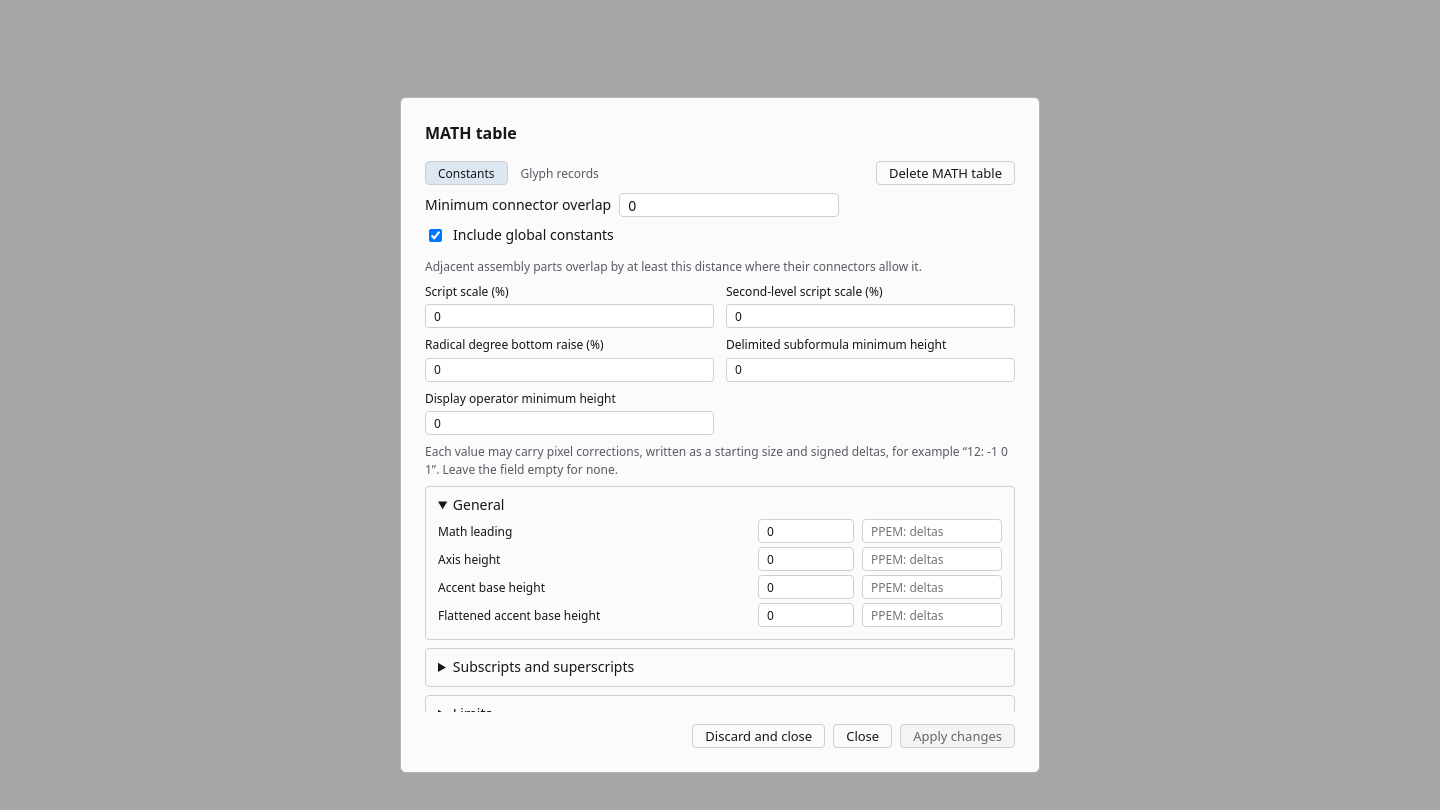
Test case: applies constants and a glyph record together and keeps the selection
The width and height of the screenshot is (1440, 810).
Replace the text in the field named "Axis height" with "777". click: (806, 559)
box: left=758, top=547, right=854, bottom=571
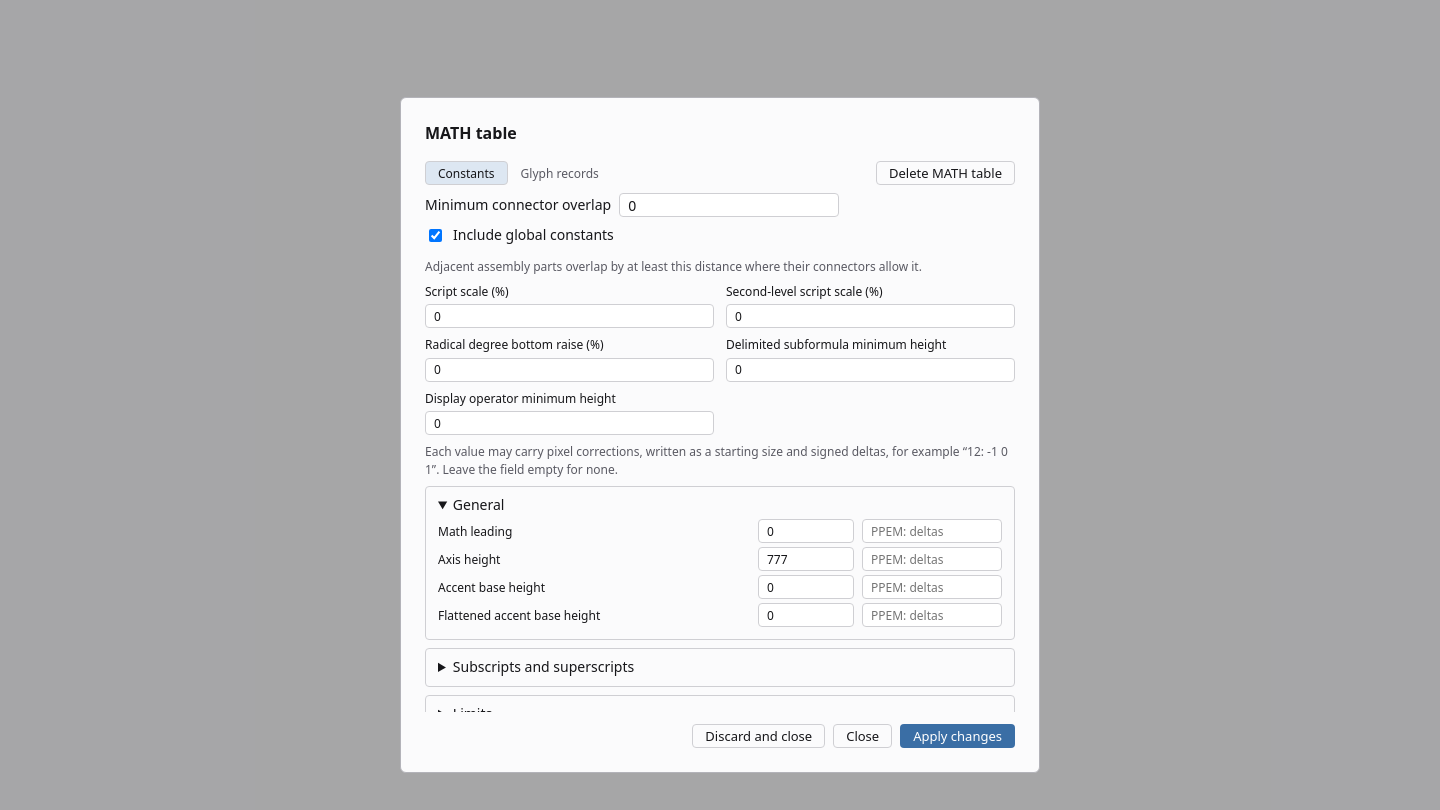
Click the tab "Glyph records". click: (560, 173)
box: left=508, top=161, right=612, bottom=185
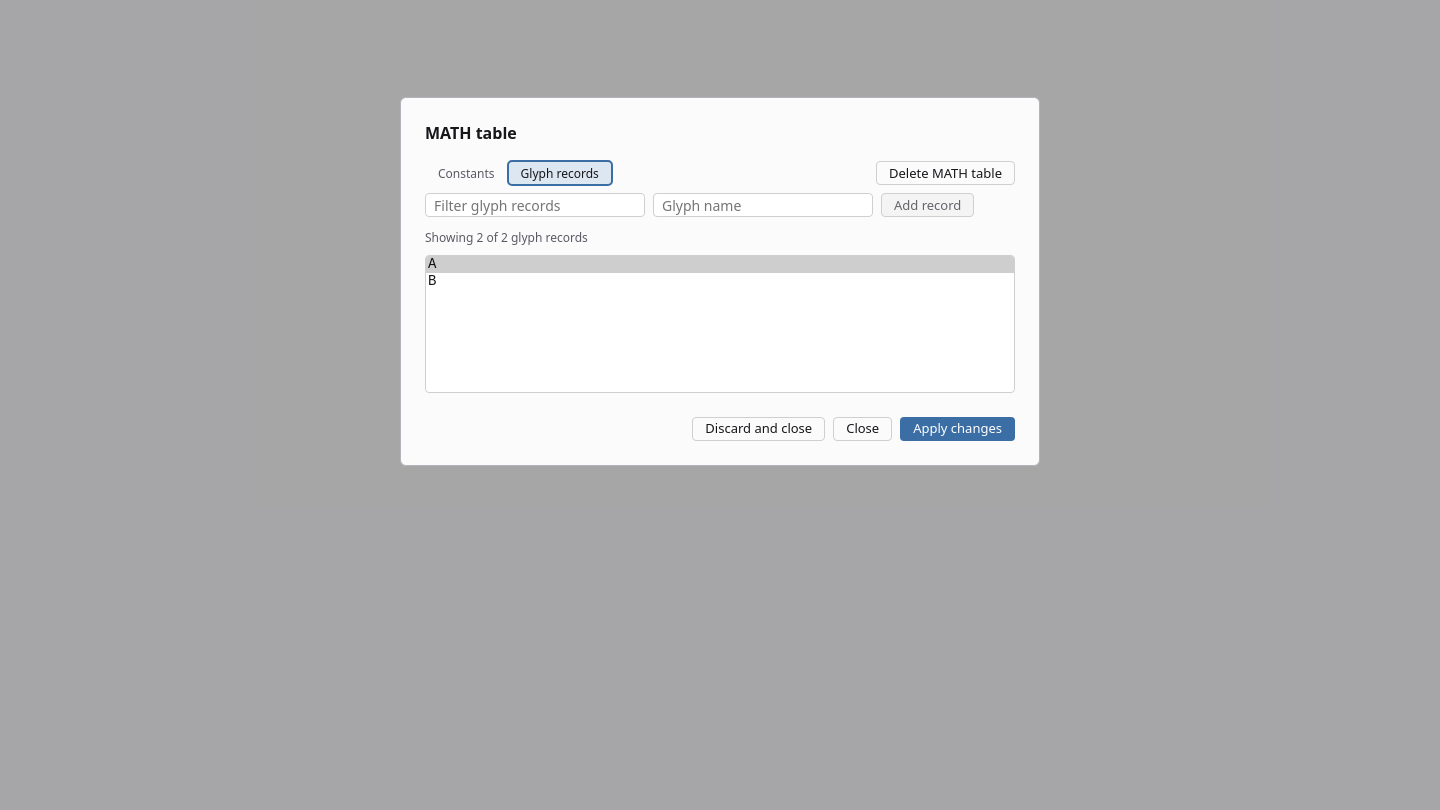
Select "A" in the dropdown. click: (720, 324)
box: left=425, top=255, right=1015, bottom=393
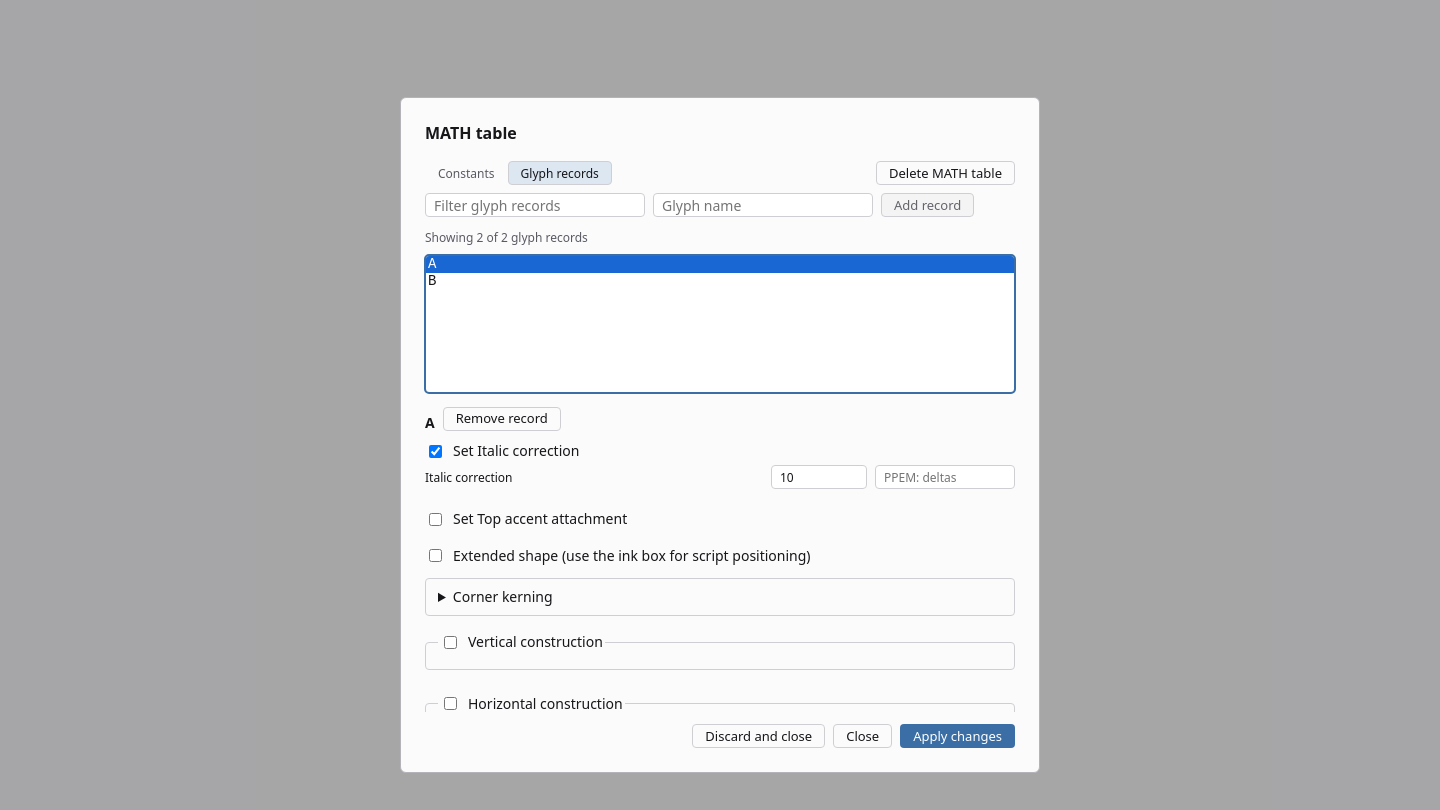
Replace the text in the field named "Italic correction" with "25". click: (819, 477)
box: left=771, top=465, right=867, bottom=489
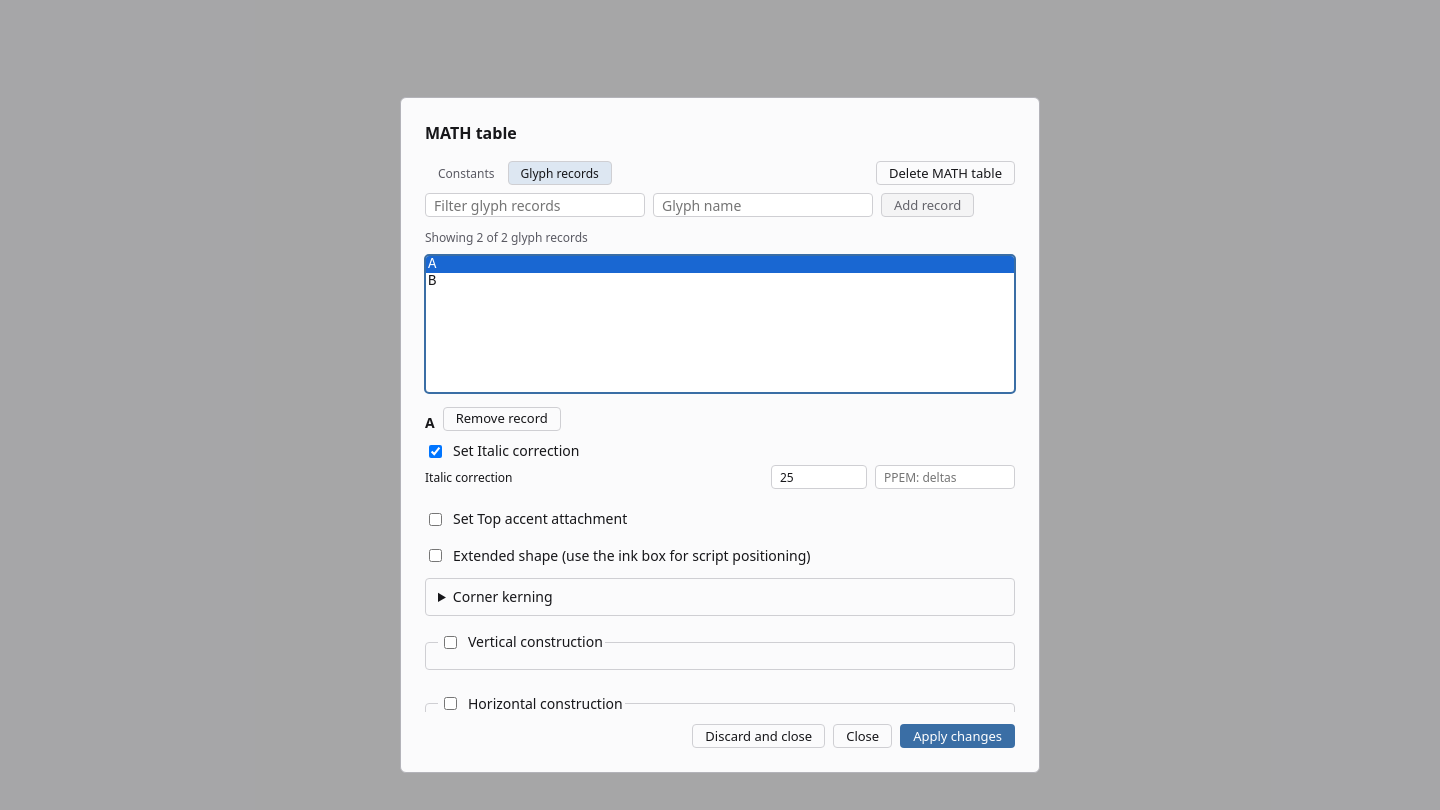
Click the button "Apply changes". click: (958, 736)
box: left=900, top=724, right=1015, bottom=748
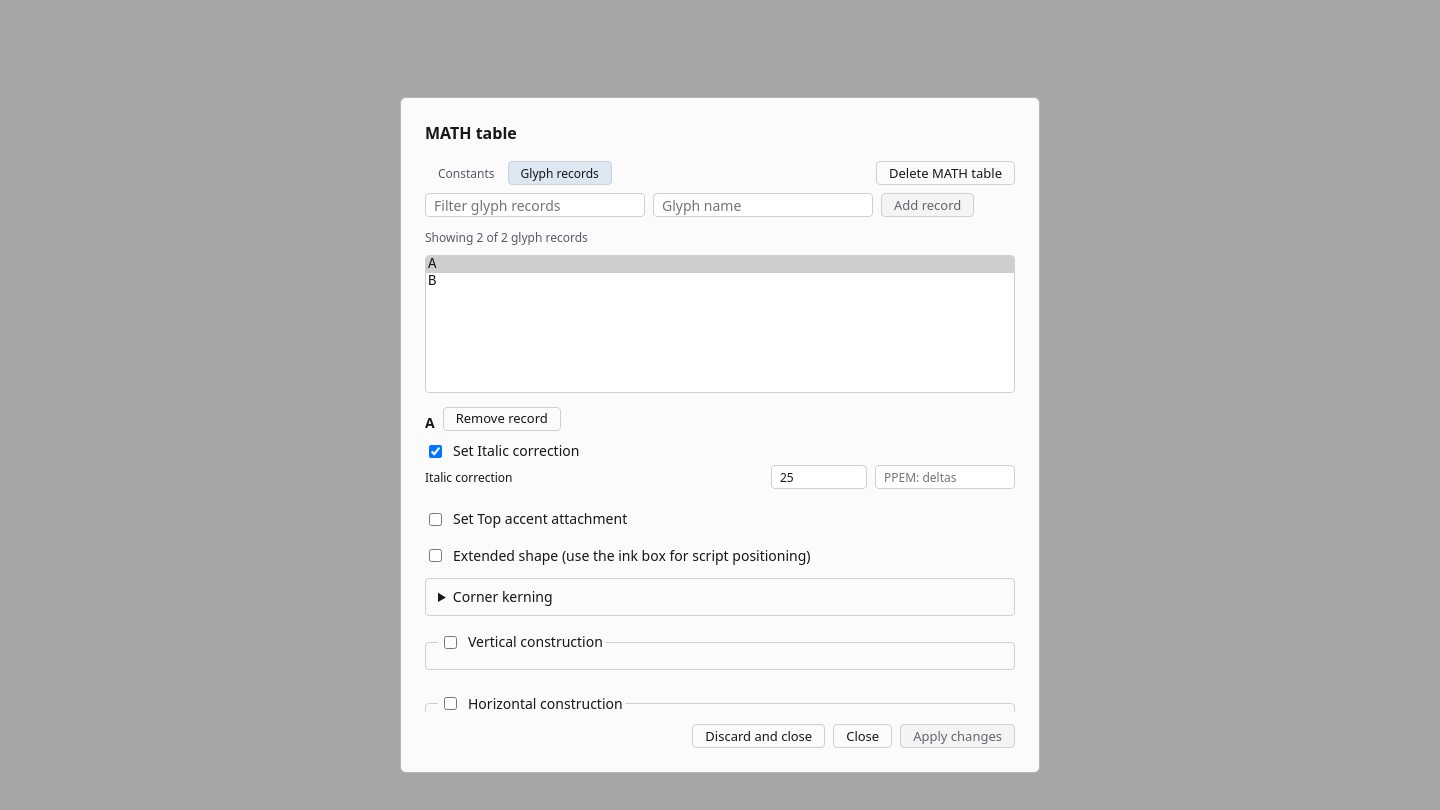
Result: the button "Apply changes" is disabled at left=900, top=724, right=1015, bottom=748
